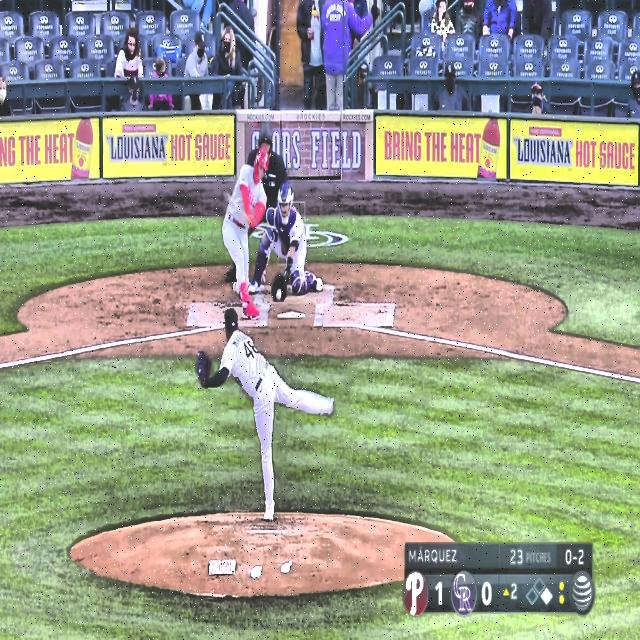baseball: (275, 287, 283, 301)
